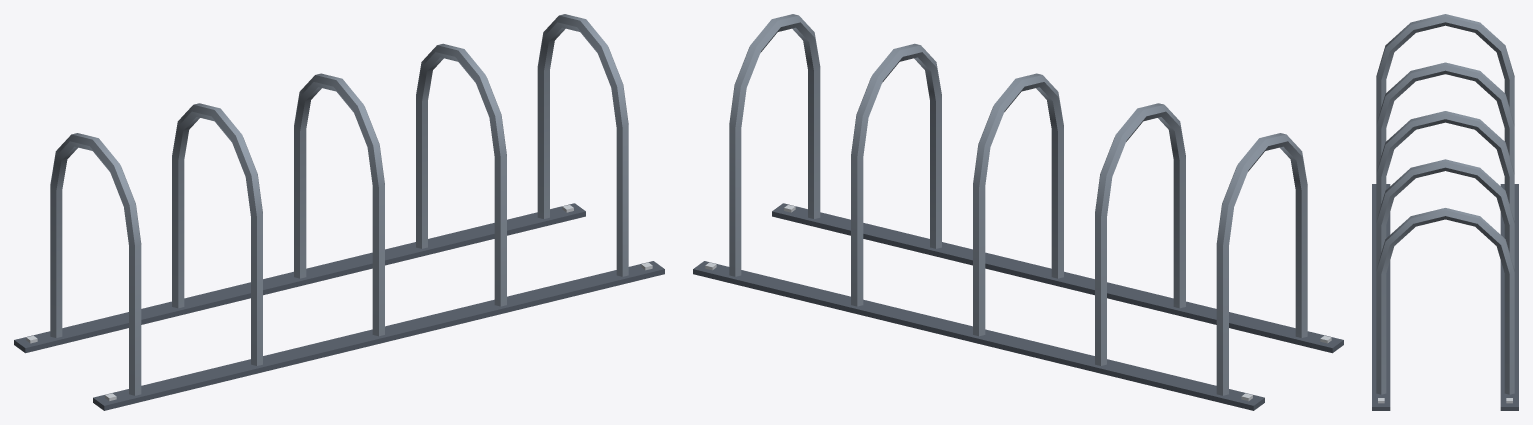
File: bike_rack.glb
The picture shows the model from 3 angles, left to right: view 1: azimuth 30°, elevation 25°; view 2: azimuth 150°, elevation 25°; view 3: azimuth 270°, elevation 25°; orthographic projection. The views are drawn at different scales.
Visible parts, largest first — view 1: bike_rack; view 2: bike_rack; view 3: bike_rack.
Boxes of the visible parts, x1=… form: bike_rack: x1=14, y1=14, x2=664, y2=410; bike_rack: x1=693, y1=14, x2=1343, y2=410; bike_rack: x1=1372, y1=14, x2=1518, y2=410.
Size of the model in its own units: 2.3 by 0.9024 by 0.64.
